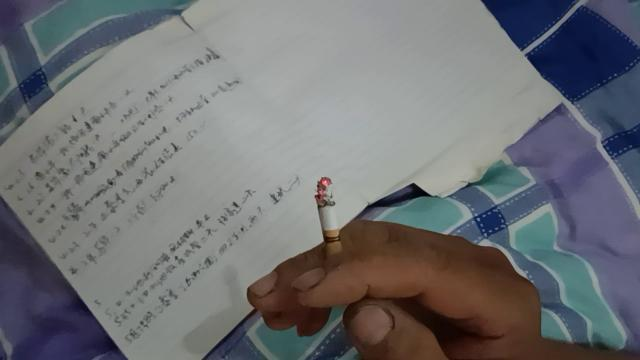Smoking: (316, 176, 344, 268)
